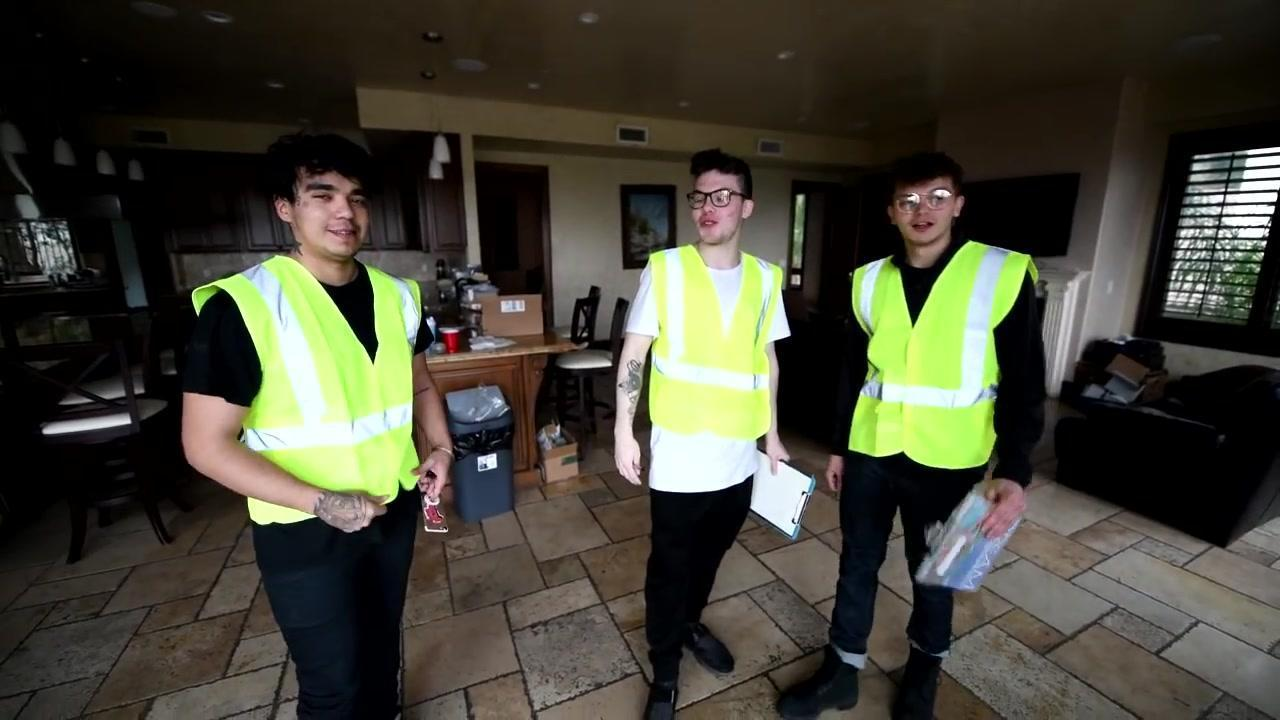vest: (182, 257, 425, 523), (847, 241, 1047, 467), (643, 244, 785, 437)
